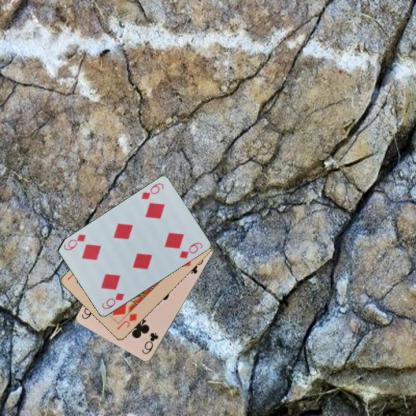6c: (140, 330, 160, 356)
6d: (139, 180, 165, 201), (99, 290, 125, 310)
Jd: (113, 310, 138, 332)
